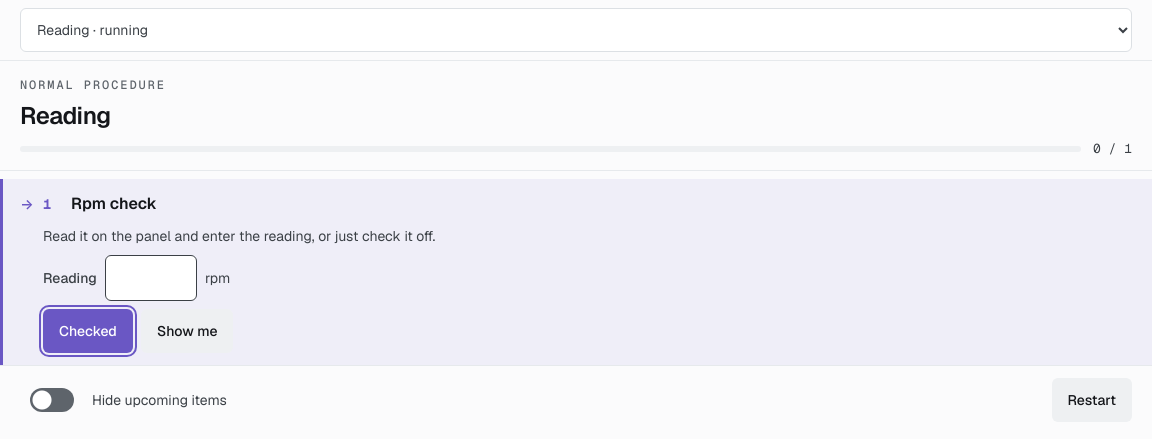
it: Practice recall › leaves the reading unit out until Show me
Click the checkbox labelled "Hide upcoming items": (52, 400) x1=20 y1=378 x2=84 y2=422
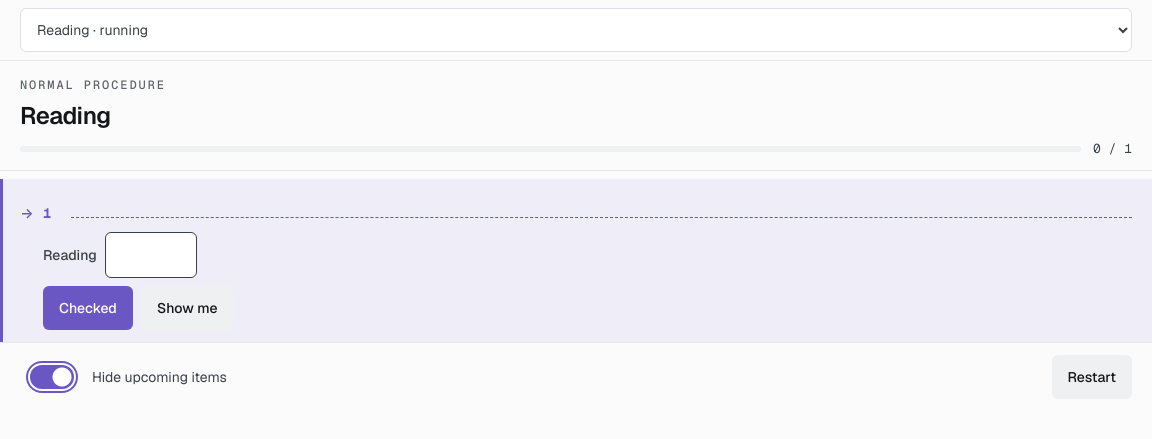
Check: the number field labelled "Reading" is shown, box x1=105 y1=232 x2=197 y2=278
Check: the text "Rpm" is gone
Click the button "Show me": (187, 308) x1=141 y1=286 x2=234 y2=330
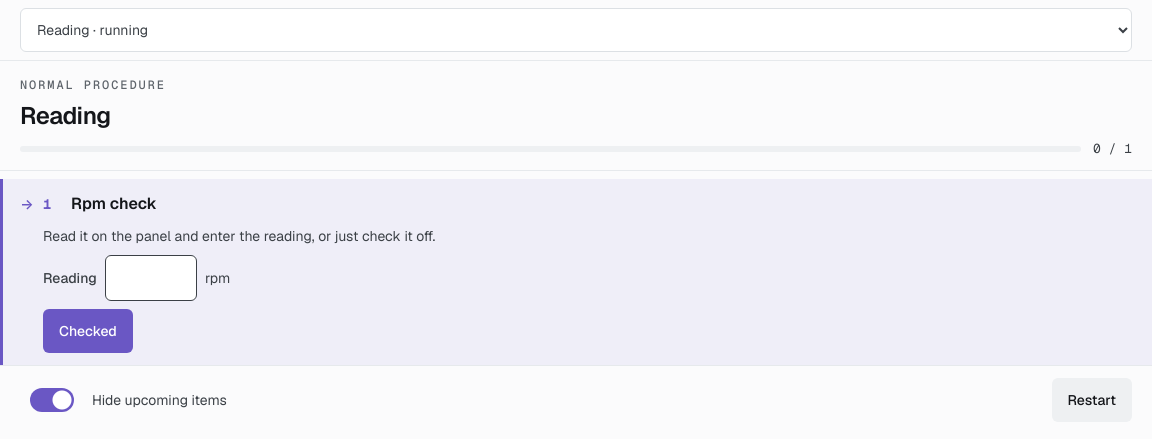
Check: the text "rpm" is shown, box x1=205 y1=267 x2=230 y2=289
